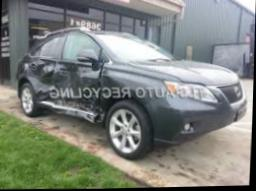Door: (52, 61, 103, 126)
